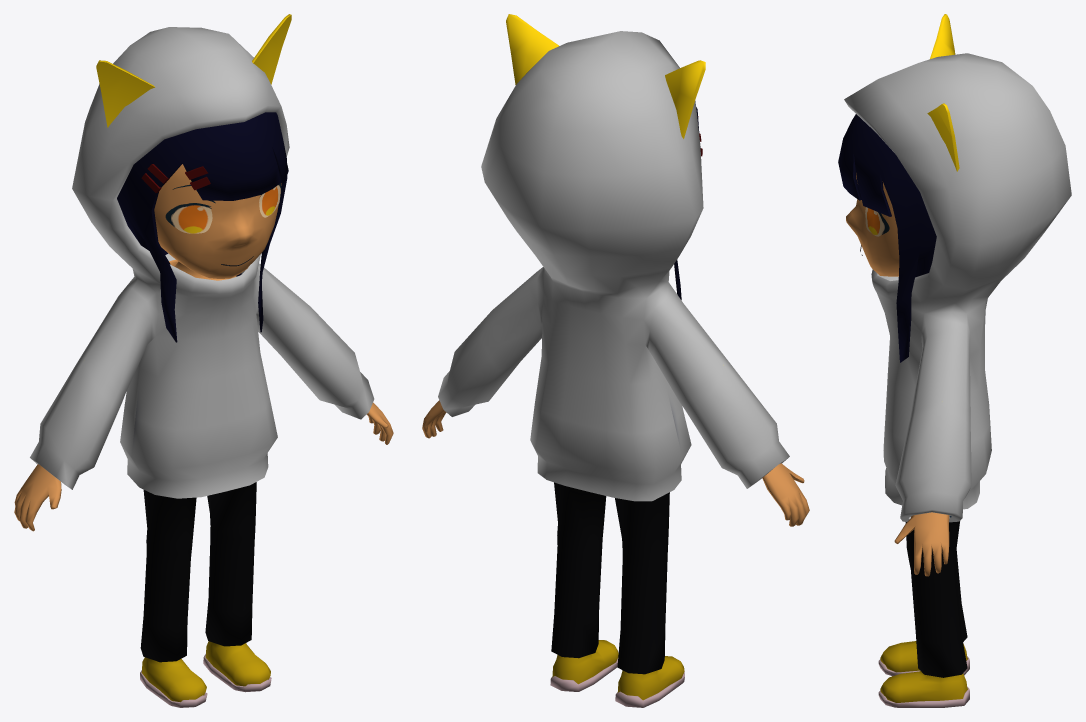
Rendered from char3.gltf.
The picture shows the model from 3 angles, left to right: view 1: azimuth 30°, elevation 25°; view 2: azimuth 150°, elevation 25°; view 3: azimuth 270°, elevation 25°; orthographic projection. The views are drawn at different scales.
Parts seen in each view (by area): view 1: ElaModel; view 2: ElaModel; view 3: ElaModel.
Boxes of the visible parts, box(x1,y1,x2,y2) form: ElaModel: box(14, 14, 393, 707); ElaModel: box(422, 14, 809, 707); ElaModel: box(838, 14, 1071, 707).
Bounding box in the file's own units: 1.21 × 1.99 × 0.6744.
Materials: 5 (5 with a texture image).
